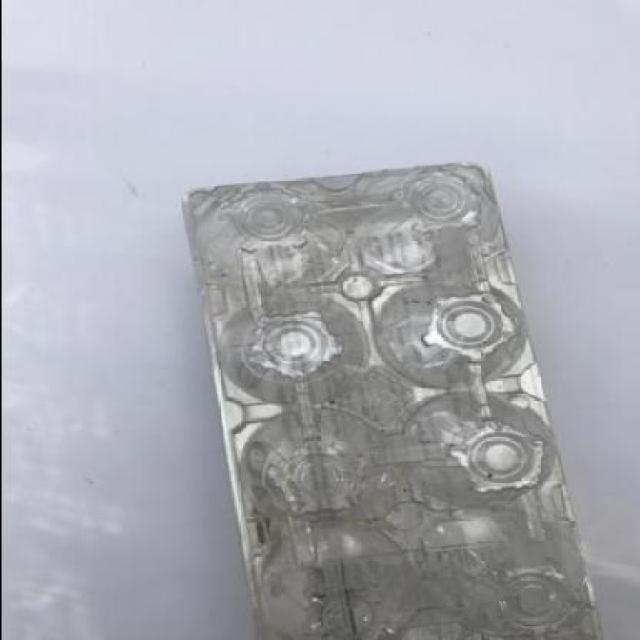PLASTIC: (178, 160, 598, 638)
